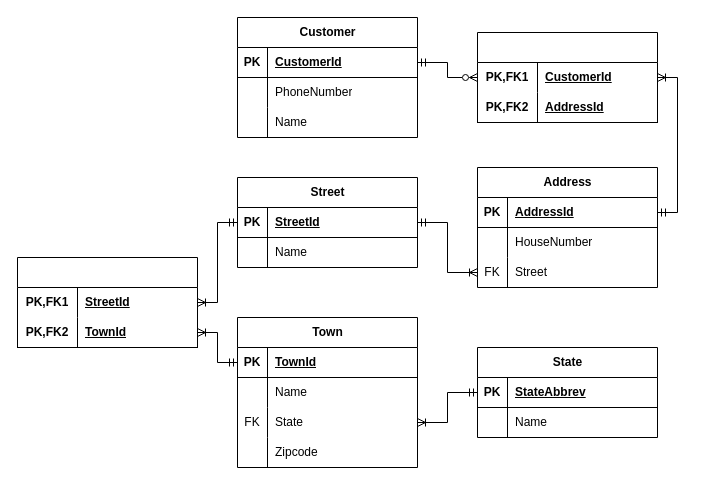
Image size: 704x485. Some labels were removed from this diagram. The box of each missing label's shape, as (x1, y1, x2, y2) in pixels:
CustomerAddress: (476, 32, 658, 122)
StreetTown: (16, 256, 198, 348)
